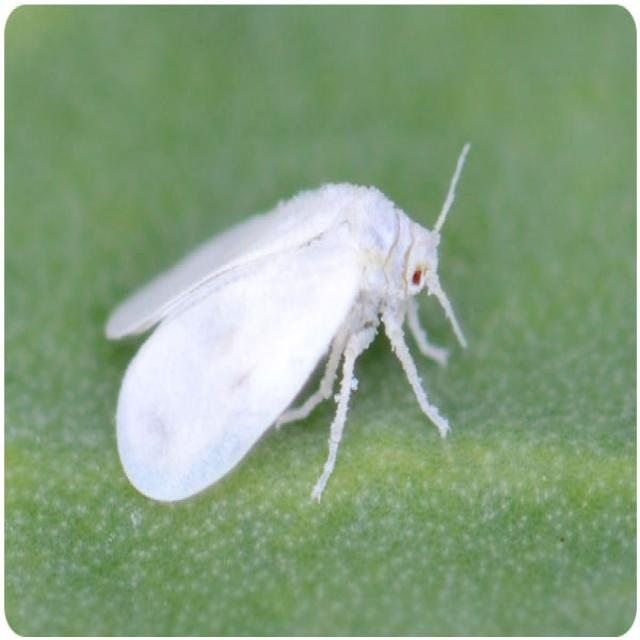whiteflies: (97, 113, 479, 517)
